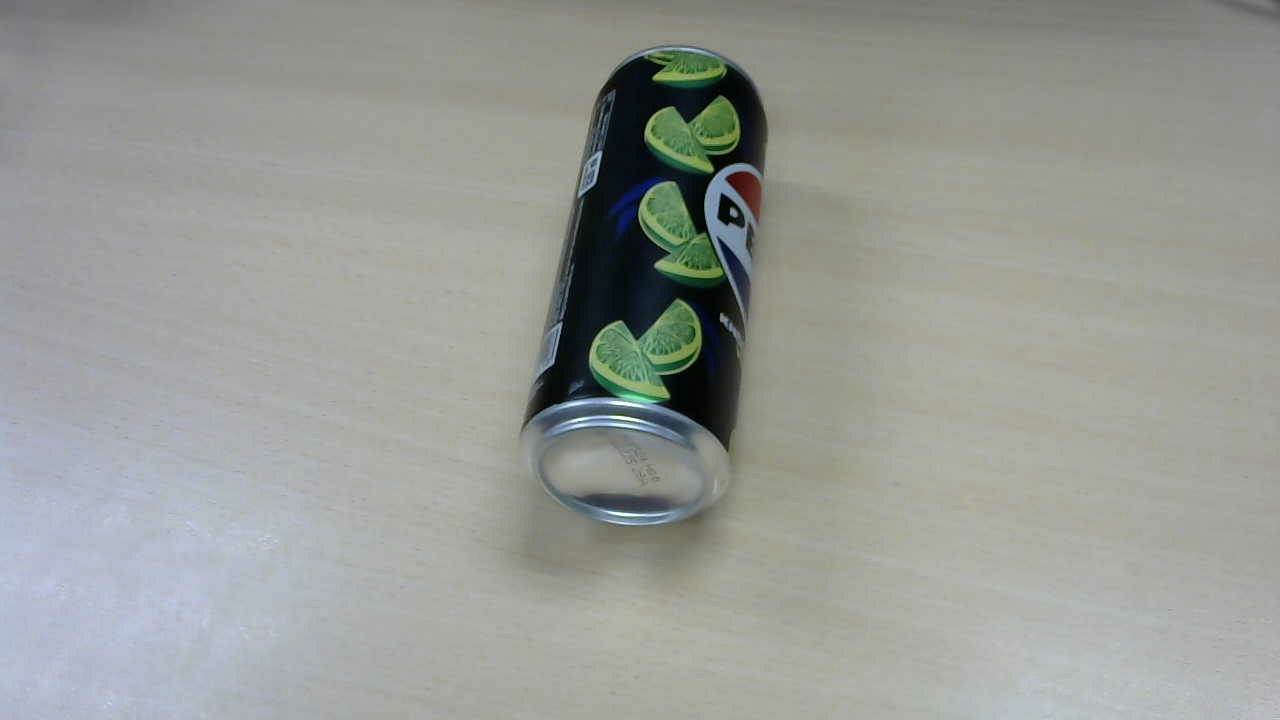Pepsi: (527, 48, 774, 530)
